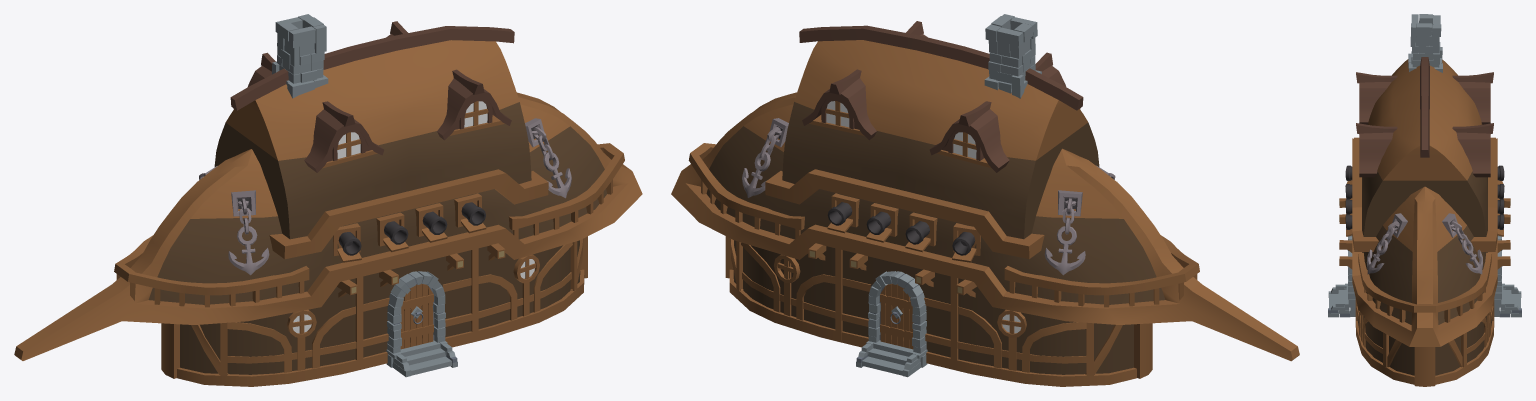
Rendered from House-g7eSJLFi4V.glb.
The picture shows the model from 3 angles, left to right: view 1: azimuth 30°, elevation 25°; view 2: azimuth 150°, elevation 25°; view 3: azimuth 270°, elevation 25°; orthographic projection. The views are drawn at different scales.
Visible parts, largest first — view 1: Environment_House1; view 2: Environment_House1; view 3: Environment_House1.
Boxes of the visible parts, x1,y1,x2,y2 form: Environment_House1: (14,14,642,386); Environment_House1: (671,14,1299,386); Environment_House1: (1328,14,1521,386).
Bounding box in the file's own units: 13.54 × 6.77 × 4.59.
Materials: 2 (1 with a texture image).
